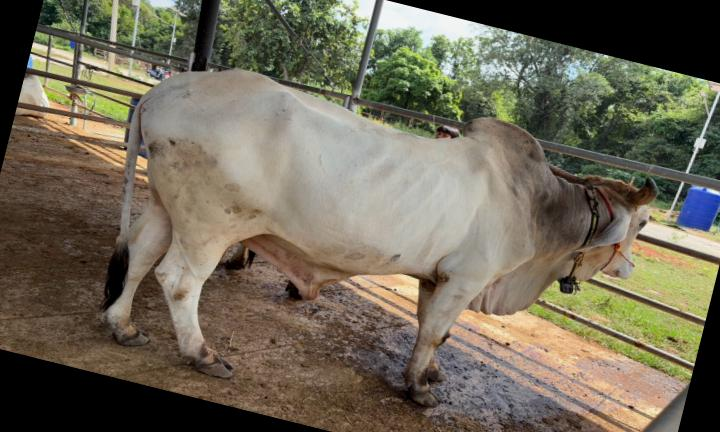Brahman: (101, 69, 656, 406)
